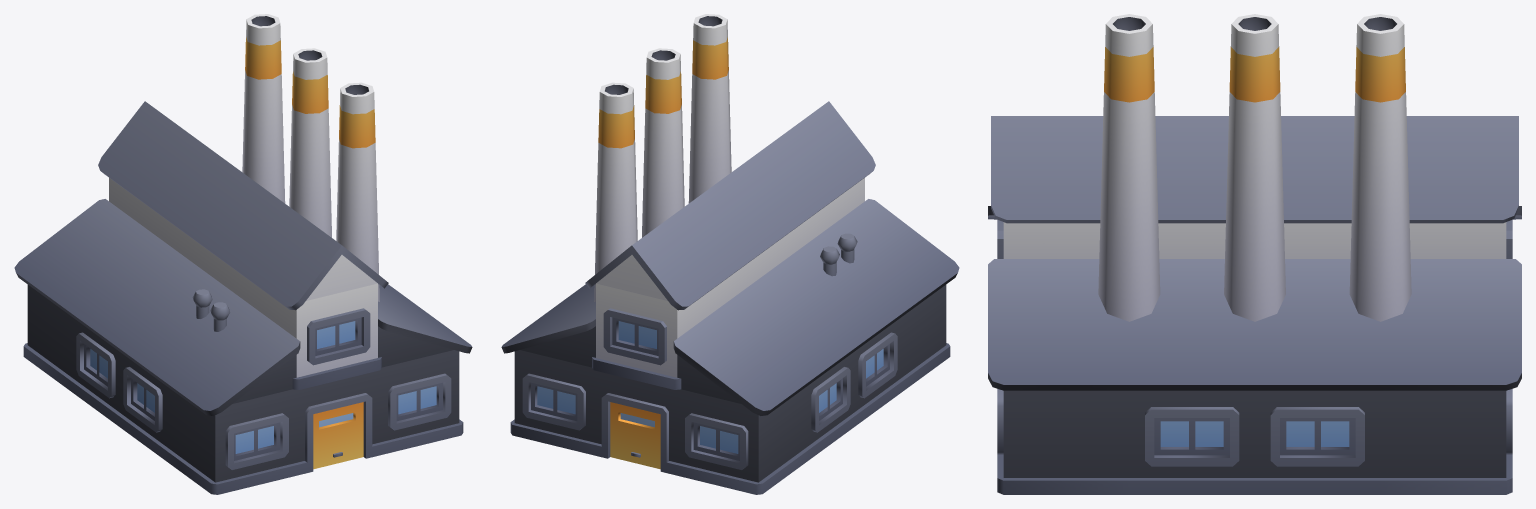
Rendered from building-m.fbx.
The picture shows the model from 3 angles, left to right: view 1: azimuth 30°, elevation 25°; view 2: azimuth 150°, elevation 25°; view 3: azimuth 270°, elevation 25°; orthographic projection. The views are drawn at different scales.
Visible parts, largest first — view 1: building-m; view 2: building-m; view 3: building-m.
Boxes of the visible parts, x1,y1,x2,y2 form: building-m: (14, 14, 472, 494); building-m: (501, 14, 959, 494); building-m: (988, 14, 1521, 494).
Size of the model in its own units: 132 by 152 by 170.
Materials: 1 (1 with a texture image).
